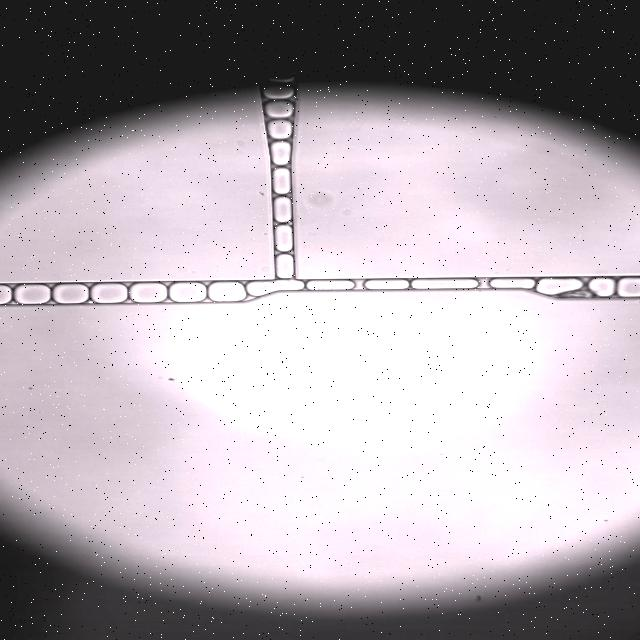L: (537, 278, 581, 295), (411, 279, 478, 289), (264, 101, 293, 119), (275, 225, 293, 252), (267, 120, 292, 139), (307, 280, 354, 290), (270, 142, 290, 165), (275, 254, 294, 278), (274, 197, 292, 222), (273, 168, 290, 194), (618, 277, 640, 297), (264, 85, 293, 100), (269, 74, 295, 83)
S: (247, 280, 304, 296), (129, 283, 166, 303), (91, 283, 127, 303), (53, 284, 88, 304), (209, 282, 245, 301), (170, 283, 206, 302), (13, 285, 49, 304), (589, 278, 615, 297), (365, 279, 409, 290), (490, 278, 533, 289), (0, 285, 10, 304)
